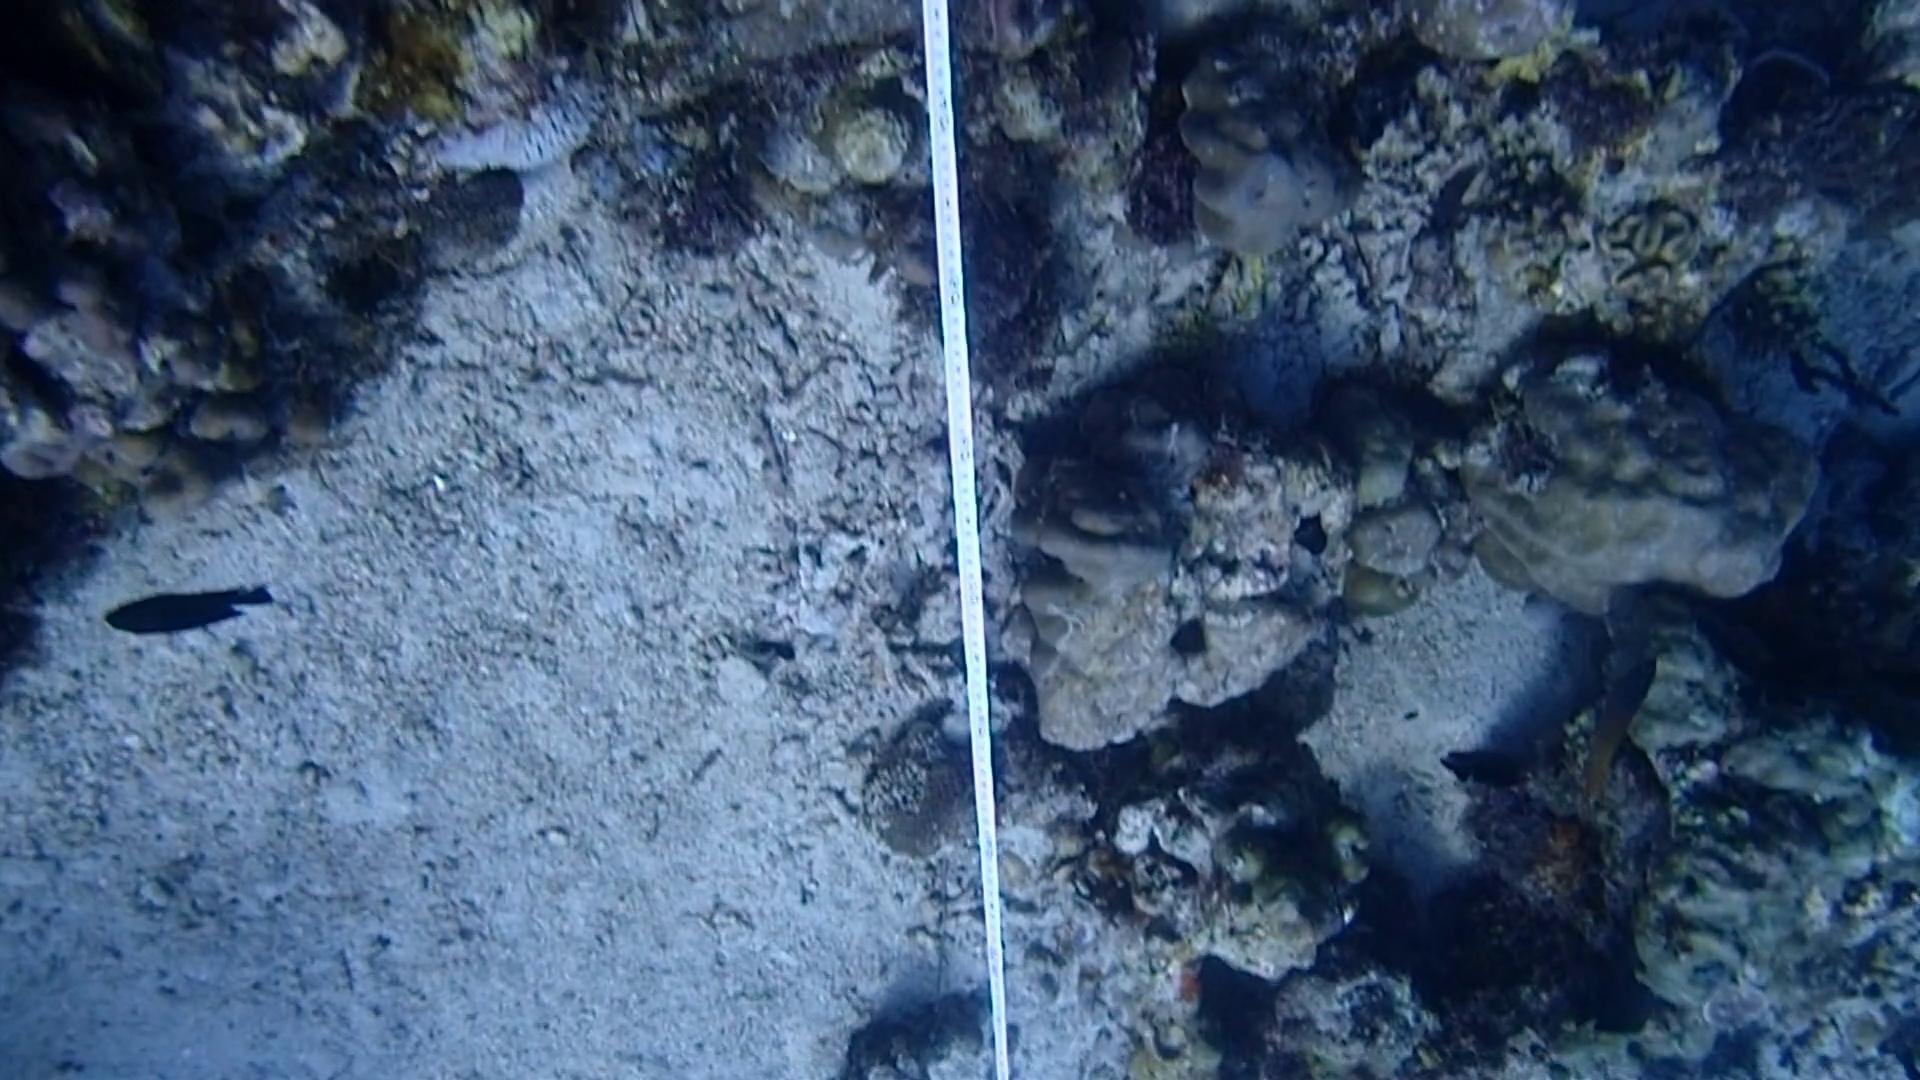Dark Fish: (99, 570, 274, 647), (1441, 732, 1531, 808)
Half Blue - Half Yellow: (1567, 650, 1672, 811)
